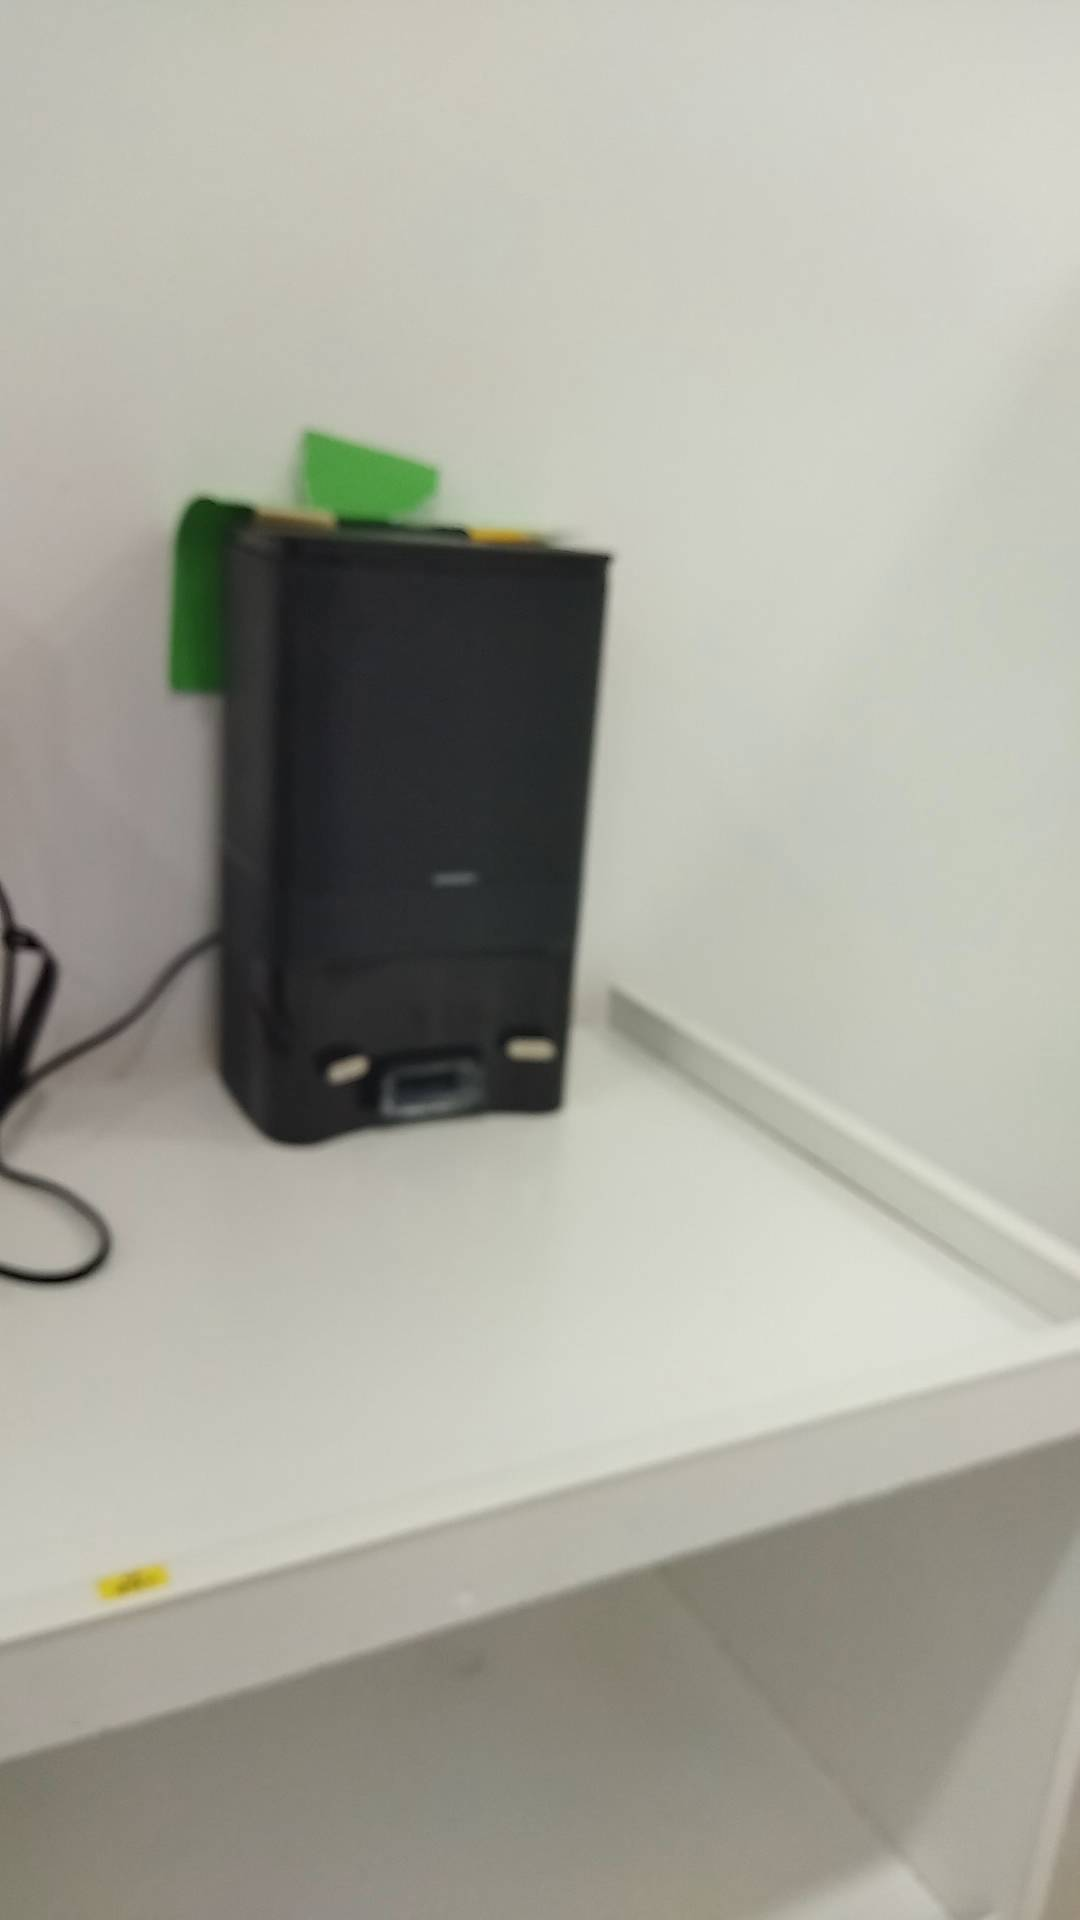dust collecting barrel: (214, 521, 613, 1145)
